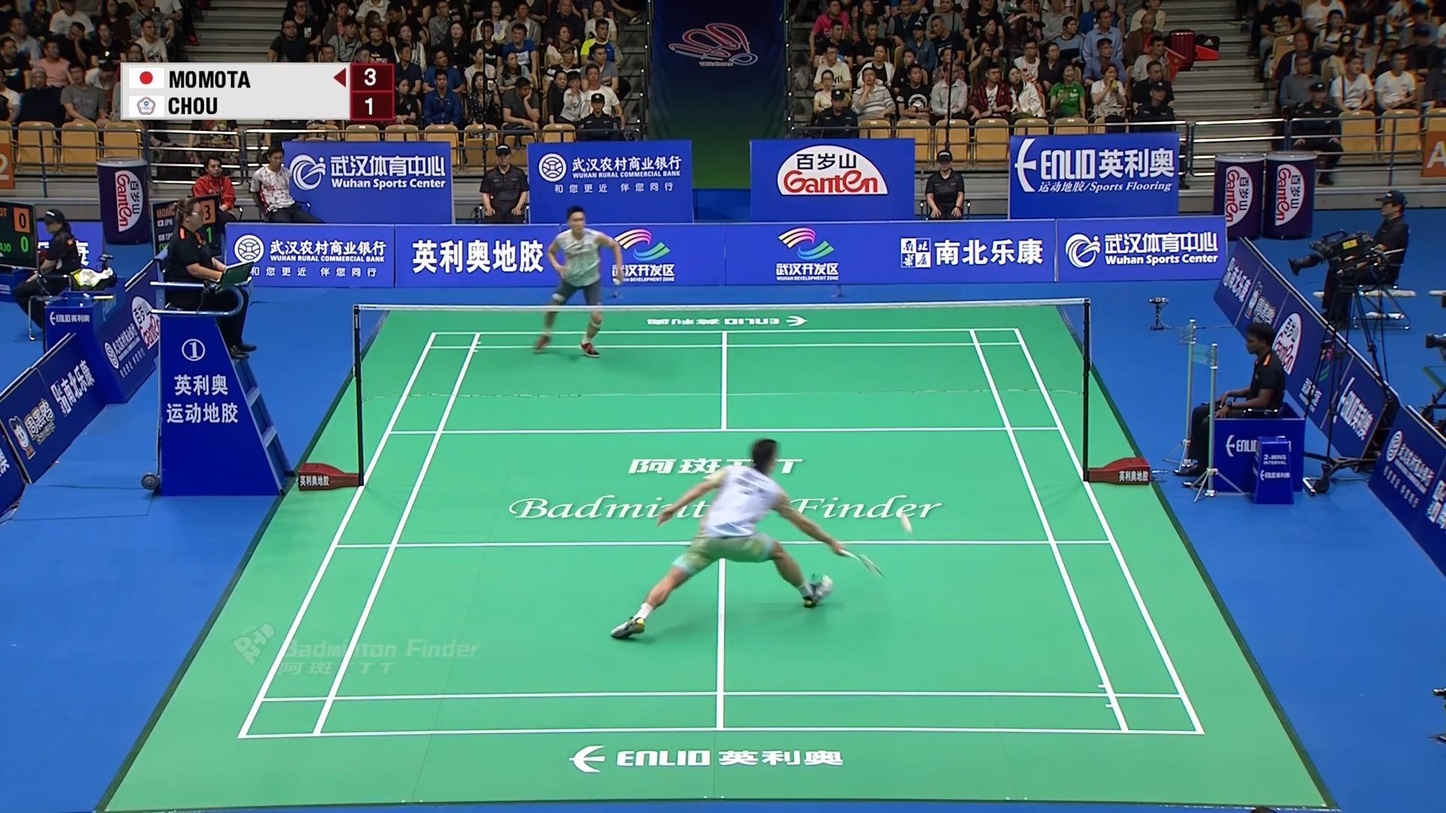player: (607, 439, 850, 638), (534, 205, 625, 356)
shuttlecock: (899, 512, 914, 533)
